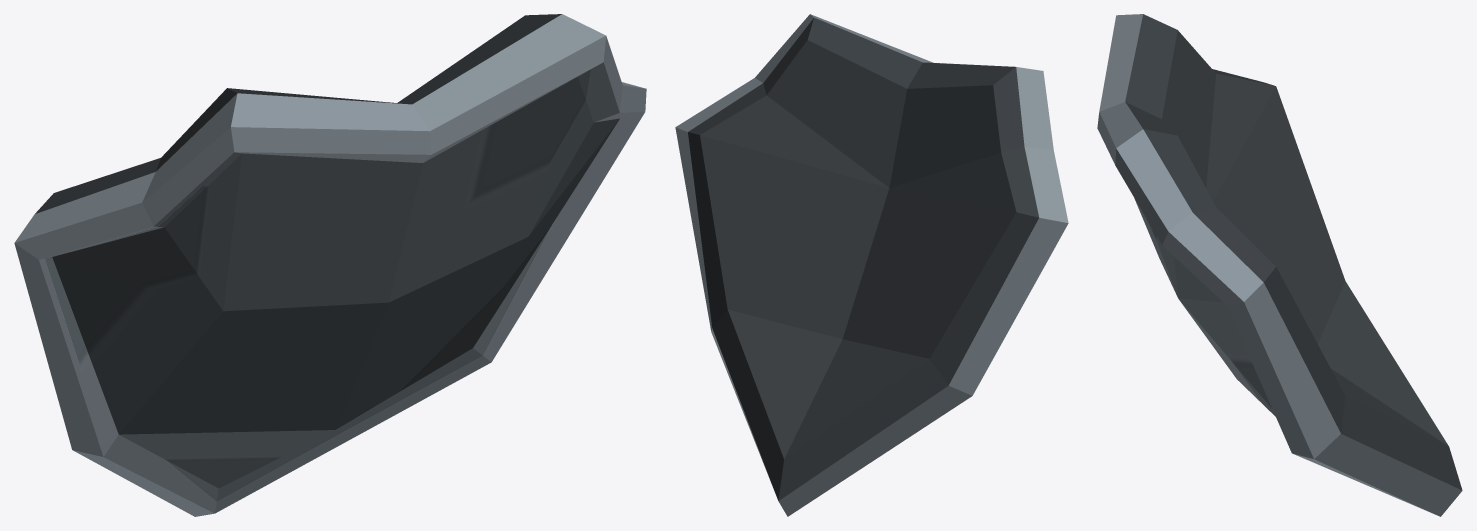
File: SM_Chr_Attach_Armour_Light_Chest_Large_01.fbx
3 renders of one model, left to right at view 1: azimuth 30°, elevation 25°; view 2: azimuth 150°, elevation 25°; view 3: azimuth 270°, elevation 25°, orthographic. The views are drawn at different scales.
Parts seen in each view (by area): view 1: SM_Chr_Attach_Armour_Light_Chest_Large_01; view 2: SM_Chr_Attach_Armour_Light_Chest_Large_01; view 3: SM_Chr_Attach_Armour_Light_Chest_Large_01.
Boxes of the visible parts, x1,y1,x2,y2 form: SM_Chr_Attach_Armour_Light_Chest_Large_01: [14, 14, 646, 516]; SM_Chr_Attach_Armour_Light_Chest_Large_01: [675, 14, 1068, 516]; SM_Chr_Attach_Armour_Light_Chest_Large_01: [1097, 14, 1462, 516].
Size of the model in its own units: 22.6 by 20.95 by 15.57.
